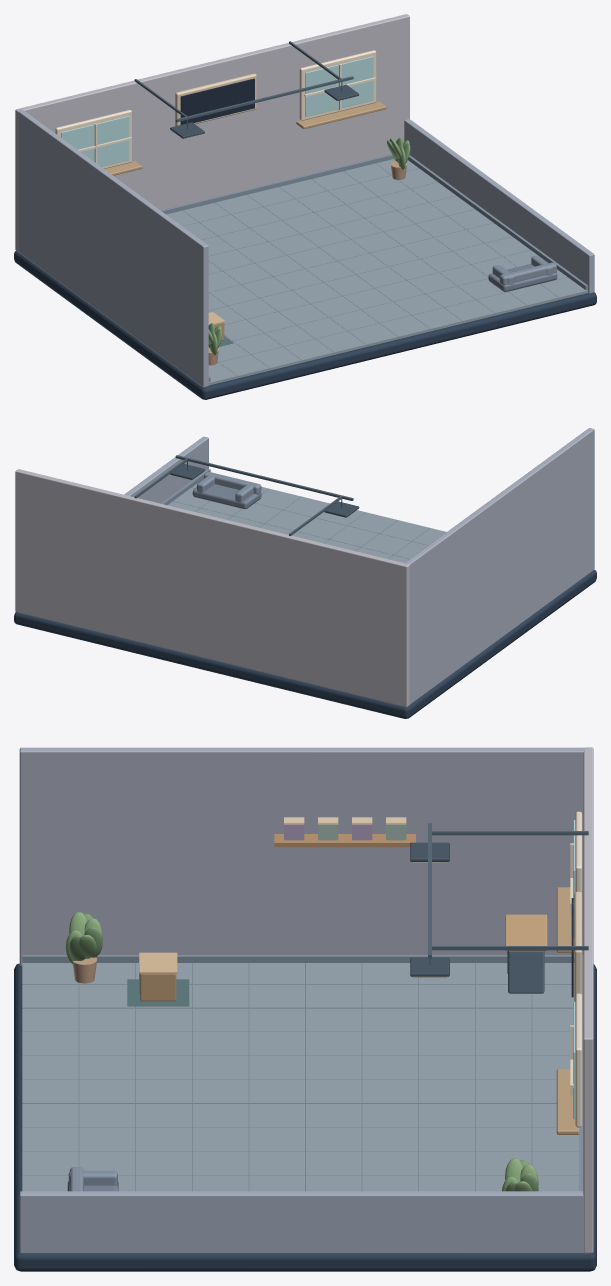
Rendered from room.glb.
3 views of the same model, one above another, from view 1: azimuth 30°, elevation 25°; view 2: azimuth 150°, elevation 25°; view 3: azimuth 270°, elevation 25° (orthographic). The views are drawn at different scales.
Parts seen in each view (by area): view 1: PrintLabWorkshop; view 2: PrintLabWorkshop; view 3: PrintLabWorkshop.
Boxes of the visible parts, left/top/right/bottom form: PrintLabWorkshop: left=14, top=14, right=596, bottom=399; PrintLabWorkshop: left=14, top=428, right=596, bottom=718; PrintLabWorkshop: left=14, top=747, right=596, bottom=1271.
Bounding box in the file's own units: 12.3 × 4.64 × 10.3.
